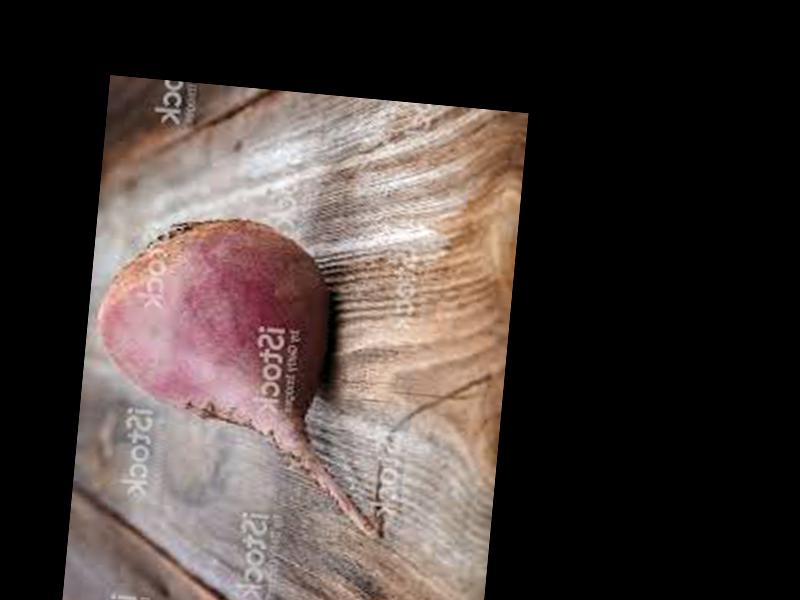Beet: (79, 208, 407, 541)
